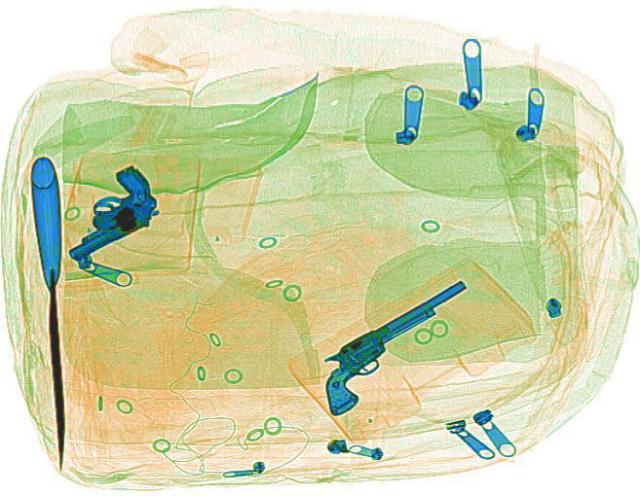Gun: (283, 278, 507, 415), (27, 161, 181, 263)
Knife: (26, 154, 76, 470)
